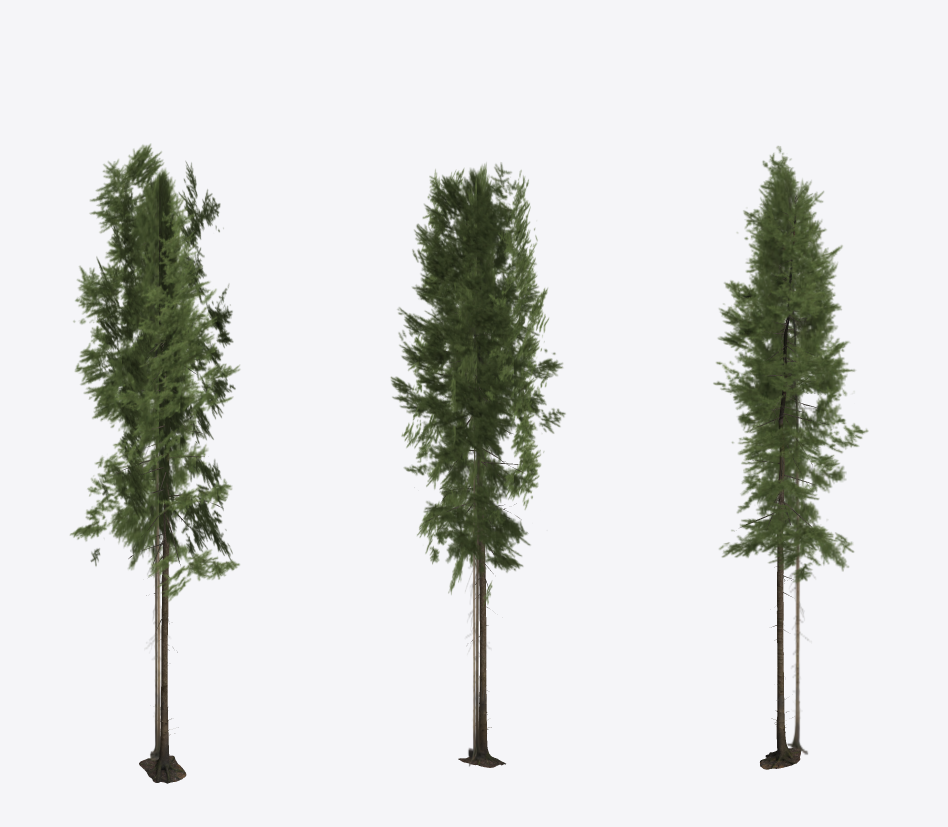
Rendered from fir-a-spatial-near-layered.glb.
3 renders of one model, left to right at view 1: azimuth 30°, elevation 25°; view 2: azimuth 150°, elevation 25°; view 3: azimuth 270°, elevation 25°, orthographic.
Parts seen in each view (by area): view 1: fir-a-full-canopy-1, fir-a-cluster-11, fir-a-full-canopy-0, fir-a-cluster-10, fir-a-cluster-09, fir-a-cluster-13, fir-a-real-trunk, fir-a-cluster-15, fir-a-cluster-07, fir-a-cluster-08, fir-a-cluster-04, fir-a-cluster-05 (+3 smaller); view 2: fir-a-full-canopy-1, fir-a-cluster-09, fir-a-cluster-13, fir-a-full-canopy-0, fir-a-cluster-10, fir-a-cluster-05, fir-a-cluster-11, fir-a-real-trunk, fir-a-cluster-14, fir-a-cluster-04, fir-a-cluster-15, fir-a-cluster-08 (+3 smaller); view 3: fir-a-full-canopy-0, fir-a-cluster-08, fir-a-cluster-04, fir-a-real-trunk, fir-a-cluster-12, fir-a-cluster-10, fir-a-cluster-06, fir-a-cluster-14.
Boxes of the visible parts, x1,y1,x2,y2 form: fir-a-full-canopy-1: (108, 168, 207, 760); fir-a-cluster-11: (113, 293, 239, 470); fir-a-full-canopy-0: (130, 172, 187, 753); fir-a-cluster-10: (97, 280, 159, 469); fir-a-cluster-09: (73, 268, 197, 430); fir-a-cluster-13: (77, 143, 179, 282); fir-a-real-trunk: (114, 212, 223, 783); fir-a-cluster-15: (142, 194, 216, 339); fir-a-cluster-07: (144, 439, 239, 601); fir-a-cluster-08: (179, 271, 235, 439); fir-a-cluster-04: (175, 430, 232, 560); fir-a-cluster-05: (70, 434, 188, 541); fir-a-full-canopy-1: (428, 168, 527, 760); fir-a-cluster-09: (390, 292, 519, 462); fir-a-cluster-13: (412, 175, 516, 339); fir-a-full-canopy-0: (448, 163, 499, 766); fir-a-cluster-10: (485, 279, 548, 455); fir-a-cluster-05: (404, 439, 522, 572); fir-a-cluster-11: (445, 270, 565, 439); fir-a-real-trunk: (426, 193, 524, 767); fir-a-cluster-14: (488, 170, 537, 308); fir-a-cluster-04: (416, 436, 472, 564); fir-a-cluster-15: (488, 162, 536, 275); fir-a-cluster-08: (401, 278, 457, 454); fir-a-full-canopy-0: (735, 166, 848, 754); fir-a-cluster-08: (713, 299, 868, 461); fir-a-cluster-04: (719, 460, 839, 582); fir-a-real-trunk: (740, 190, 828, 769); fir-a-cluster-12: (726, 191, 836, 333); fir-a-cluster-10: (716, 264, 849, 425); fir-a-cluster-06: (732, 425, 853, 553); fir-a-cluster-14: (741, 146, 842, 299).
Bounding box in the file's own units: 8 × 21.5 × 8.
5 materials, 5 textured.
